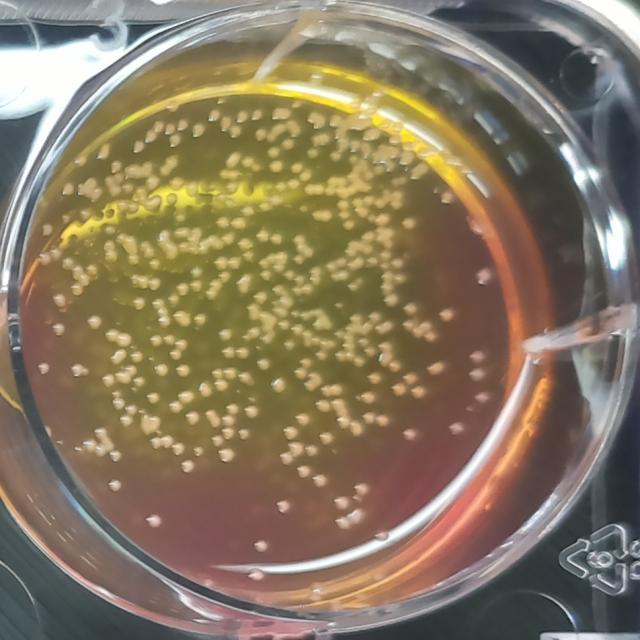StaphyloPositive: (205, 270, 230, 301), (117, 232, 139, 264), (156, 229, 178, 261), (332, 396, 351, 431), (292, 234, 314, 263), (152, 296, 170, 330), (105, 327, 132, 347), (172, 309, 192, 329), (310, 208, 334, 224), (426, 359, 446, 378), (304, 370, 322, 391), (270, 376, 289, 394), (178, 389, 197, 407), (109, 348, 128, 366), (217, 447, 237, 464), (204, 408, 221, 428), (184, 409, 202, 427), (286, 439, 305, 456), (173, 362, 192, 379), (85, 313, 102, 332), (308, 266, 324, 286), (102, 240, 117, 261), (321, 383, 343, 397), (140, 238, 154, 260), (375, 319, 393, 336), (238, 369, 254, 388), (447, 421, 464, 438), (281, 424, 299, 440), (294, 410, 312, 426), (130, 273, 148, 289), (254, 357, 273, 372), (348, 255, 364, 272), (401, 426, 416, 444), (358, 389, 376, 404), (366, 370, 382, 386), (217, 326, 233, 342), (209, 432, 225, 448), (220, 426, 236, 442), (376, 351, 392, 367), (313, 399, 330, 414), (168, 399, 185, 414), (228, 254, 242, 272), (304, 443, 320, 458), (360, 411, 376, 426), (198, 382, 213, 398), (243, 404, 258, 420), (236, 427, 252, 442), (154, 362, 170, 377), (189, 264, 205, 279), (280, 451, 295, 466), (319, 430, 334, 445), (235, 345, 250, 360), (188, 279, 203, 294), (147, 277, 162, 292), (293, 365, 307, 381), (391, 382, 405, 398), (222, 344, 236, 360), (224, 402, 240, 416), (221, 413, 237, 427), (146, 333, 162, 347), (193, 312, 207, 328), (213, 255, 227, 271), (282, 338, 296, 353), (168, 347, 183, 361), (129, 350, 144, 364), (341, 218, 356, 232), (176, 282, 189, 298), (298, 356, 312, 370), (376, 414, 390, 428), (224, 366, 238, 380), (175, 338, 189, 352), (403, 371, 416, 386), (361, 230, 376, 243), (350, 420, 362, 436), (411, 386, 425, 399), (210, 366, 223, 380), (167, 292, 181, 305), (391, 257, 405, 270), (334, 255, 348, 268), (348, 312, 362, 325), (162, 333, 176, 345), (216, 378, 228, 391), (379, 340, 392, 352), (315, 349, 328, 361), (134, 297, 146, 309), (366, 255, 378, 267), (149, 258, 159, 270)
